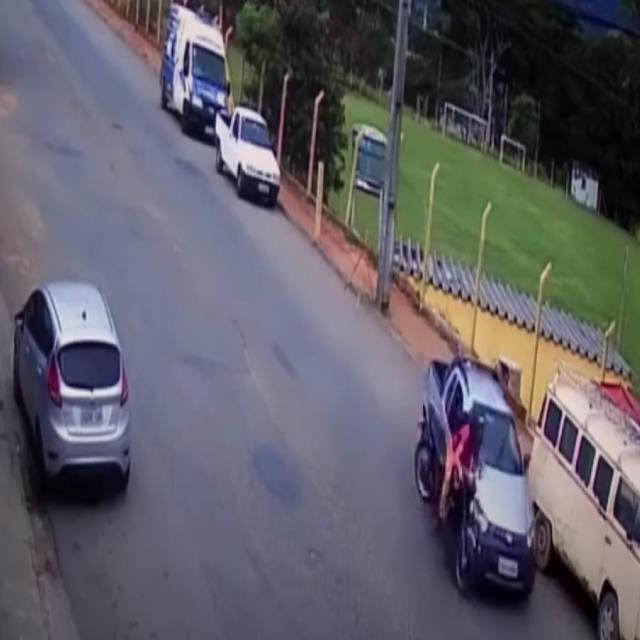accident: (414, 356, 640, 640)
non-accident: (154, 1, 282, 210)
